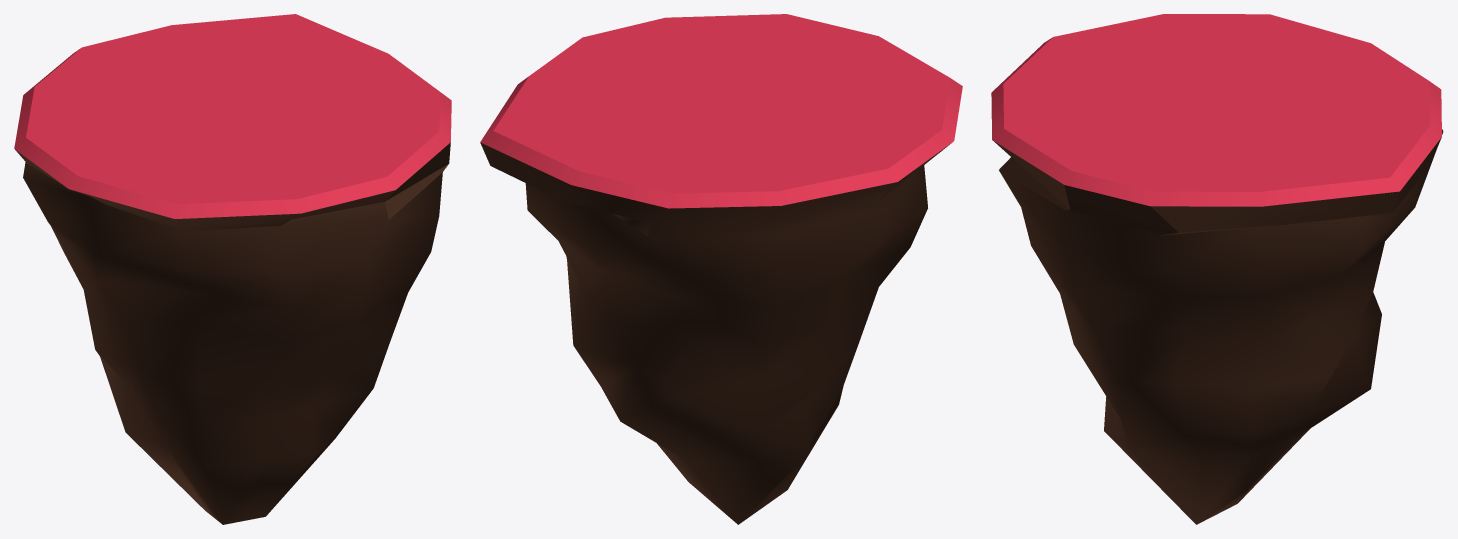
The model's file is FBX_IslandV1.FBX.
The picture shows the model from 3 angles, left to right: view 1: azimuth 30°, elevation 25°; view 2: azimuth 150°, elevation 25°; view 3: azimuth 270°, elevation 25°; orthographic projection.
Parts seen in each view (by area): view 1: Box003; view 2: Box003; view 3: Box003.
Boxes of the visible parts, x1,y1,x2,y2 form: Box003: (14, 14, 451, 524); Box003: (480, 14, 962, 524); Box003: (991, 14, 1443, 524).
Bounding box in the file's own units: 1340 × 1346 × 1346.
